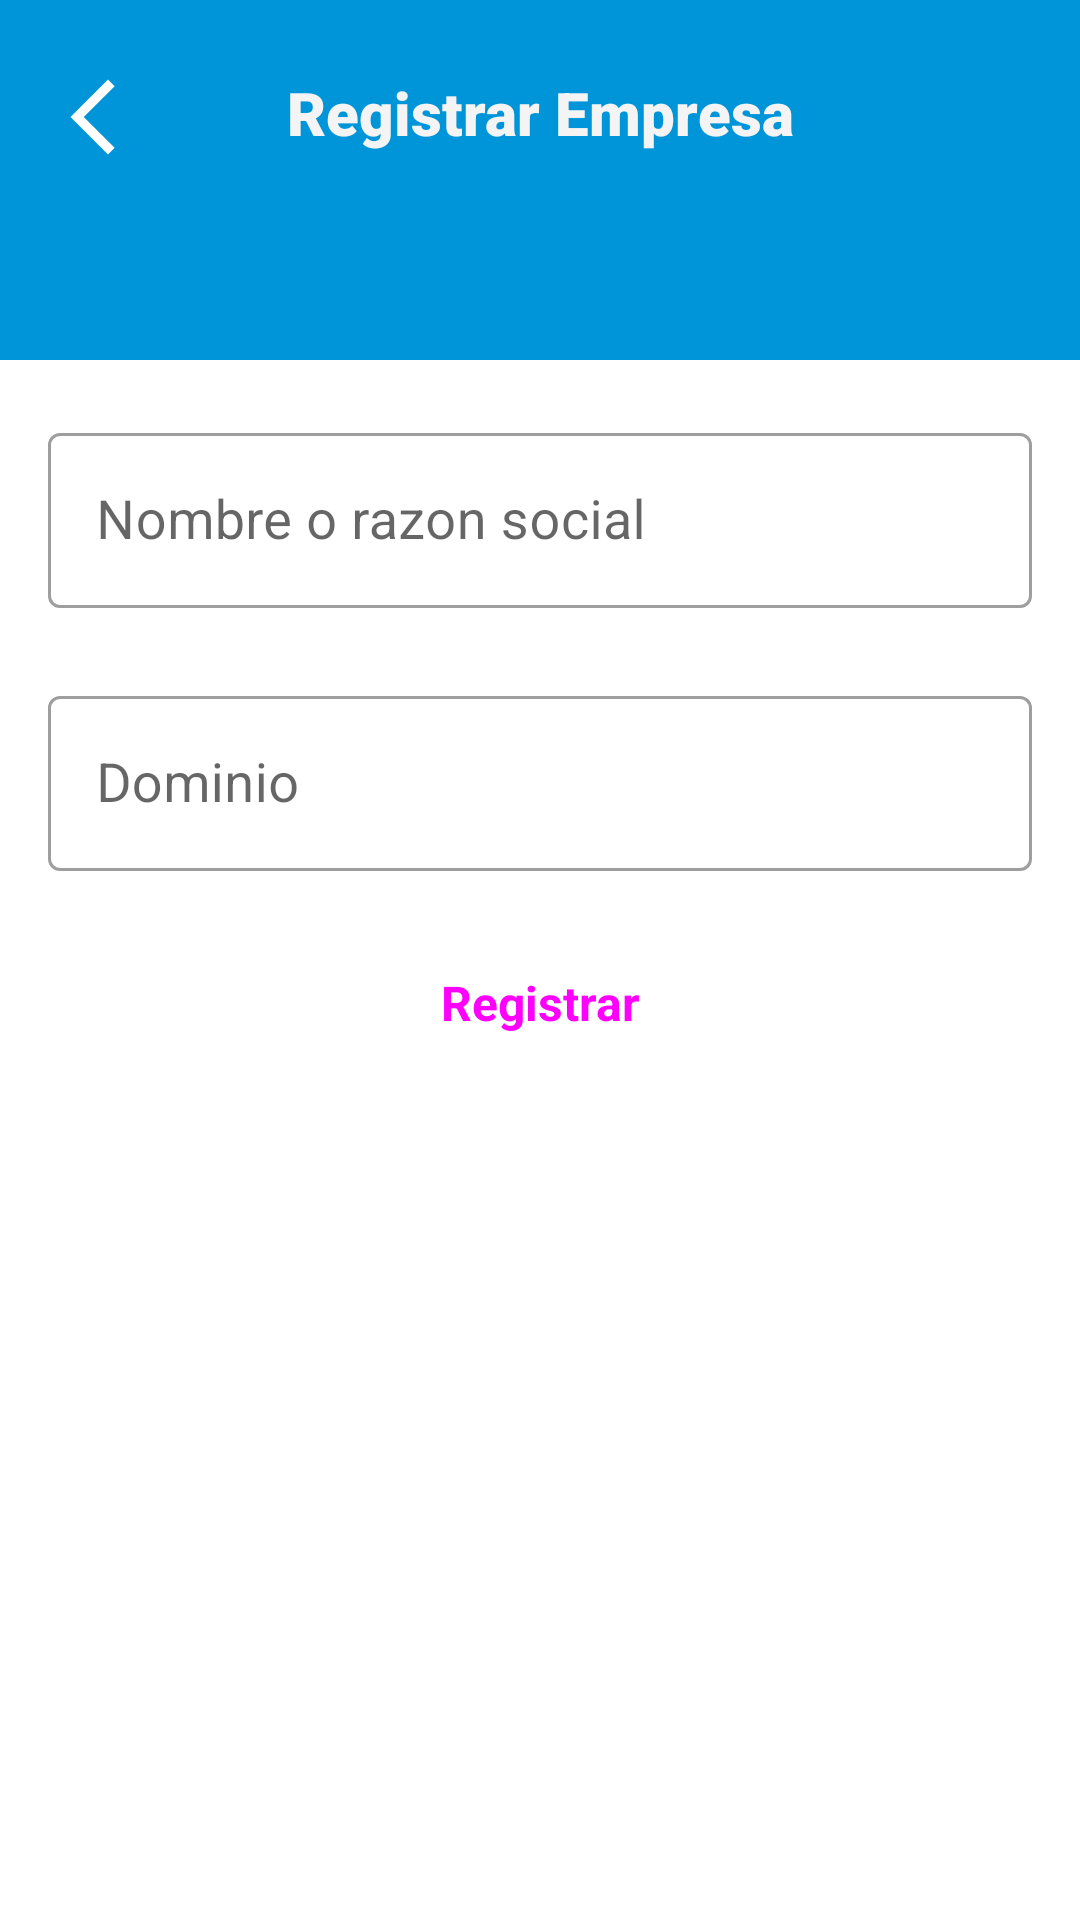

Where icons sit on this 1080×1920 app screen, as region(x1, y1, x2, y2):
arrow back: region(70, 79, 115, 155)
